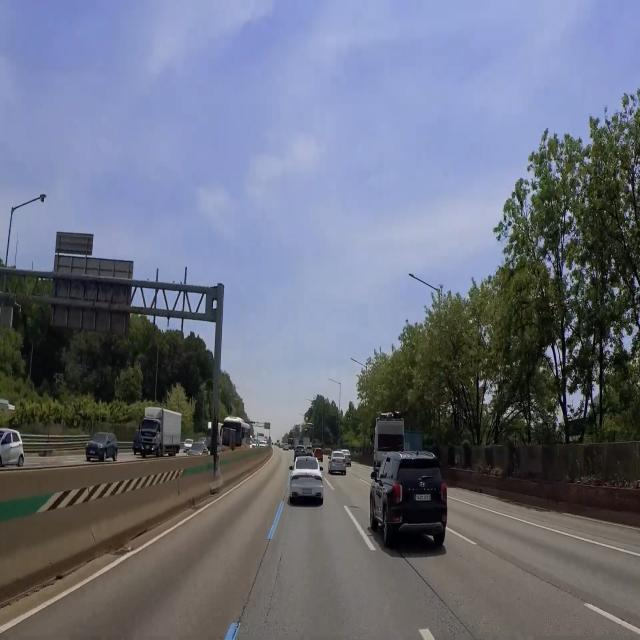car: (413, 492, 432, 505), (333, 459, 346, 471), (300, 486, 314, 497)
